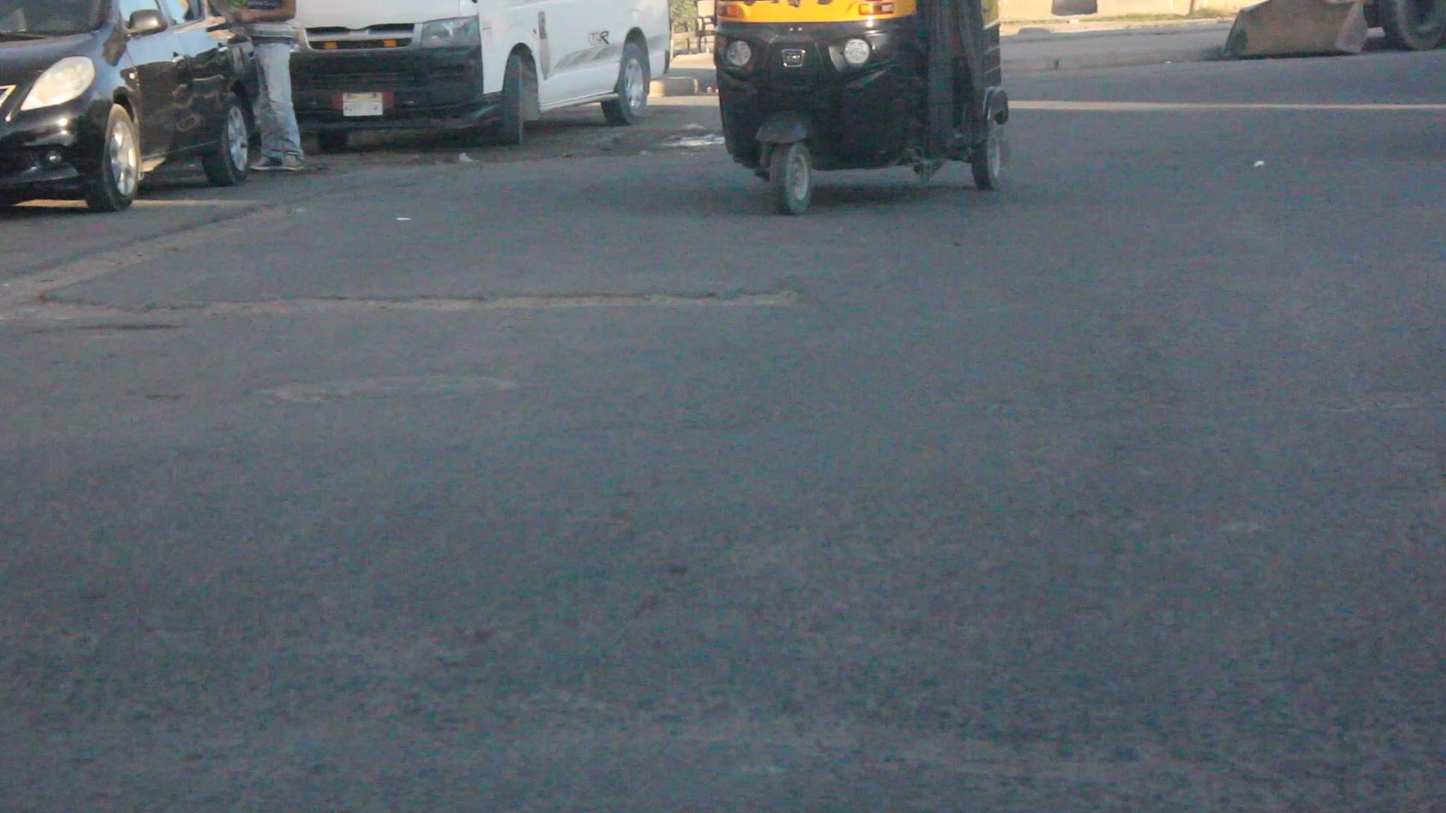Bump: (4, 422, 1444, 693)
Pothole: (2, 273, 825, 343), (616, 117, 725, 181)
